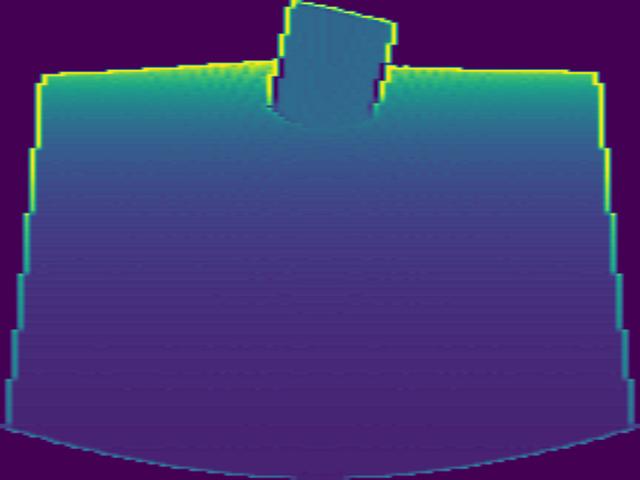cylinder: (266, 1, 397, 131)
